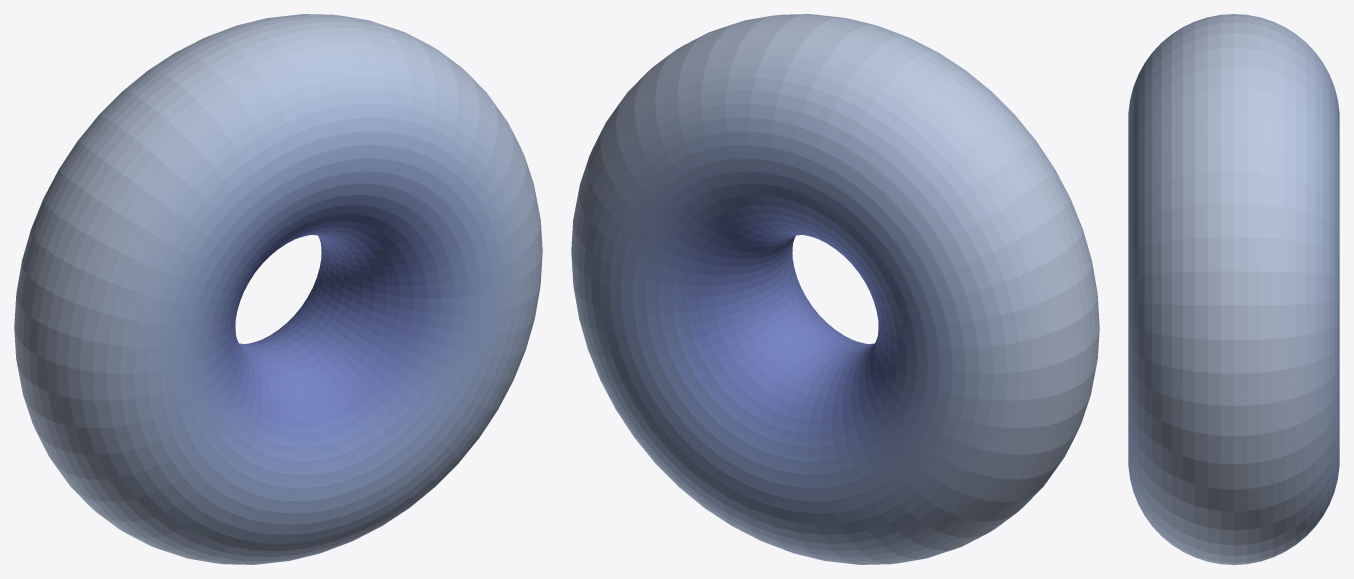
3 views of the same model, side by side, from view 1: azimuth 30°, elevation 25°; view 2: azimuth 150°, elevation 25°; view 3: azimuth 270°, elevation 25° (orthographic). The views are drawn at different scales.
Visible parts, largest first — view 1: world; view 2: world; view 3: world.
Part boxes in pixels (x1=…): world: x1=14, y1=14, x2=542, y2=564; world: x1=571, y1=14, x2=1099, y2=564; world: x1=1128, y1=14, x2=1339, y2=564.
Size of the model in its own units: 18.4 by 18.36 by 7.05.
